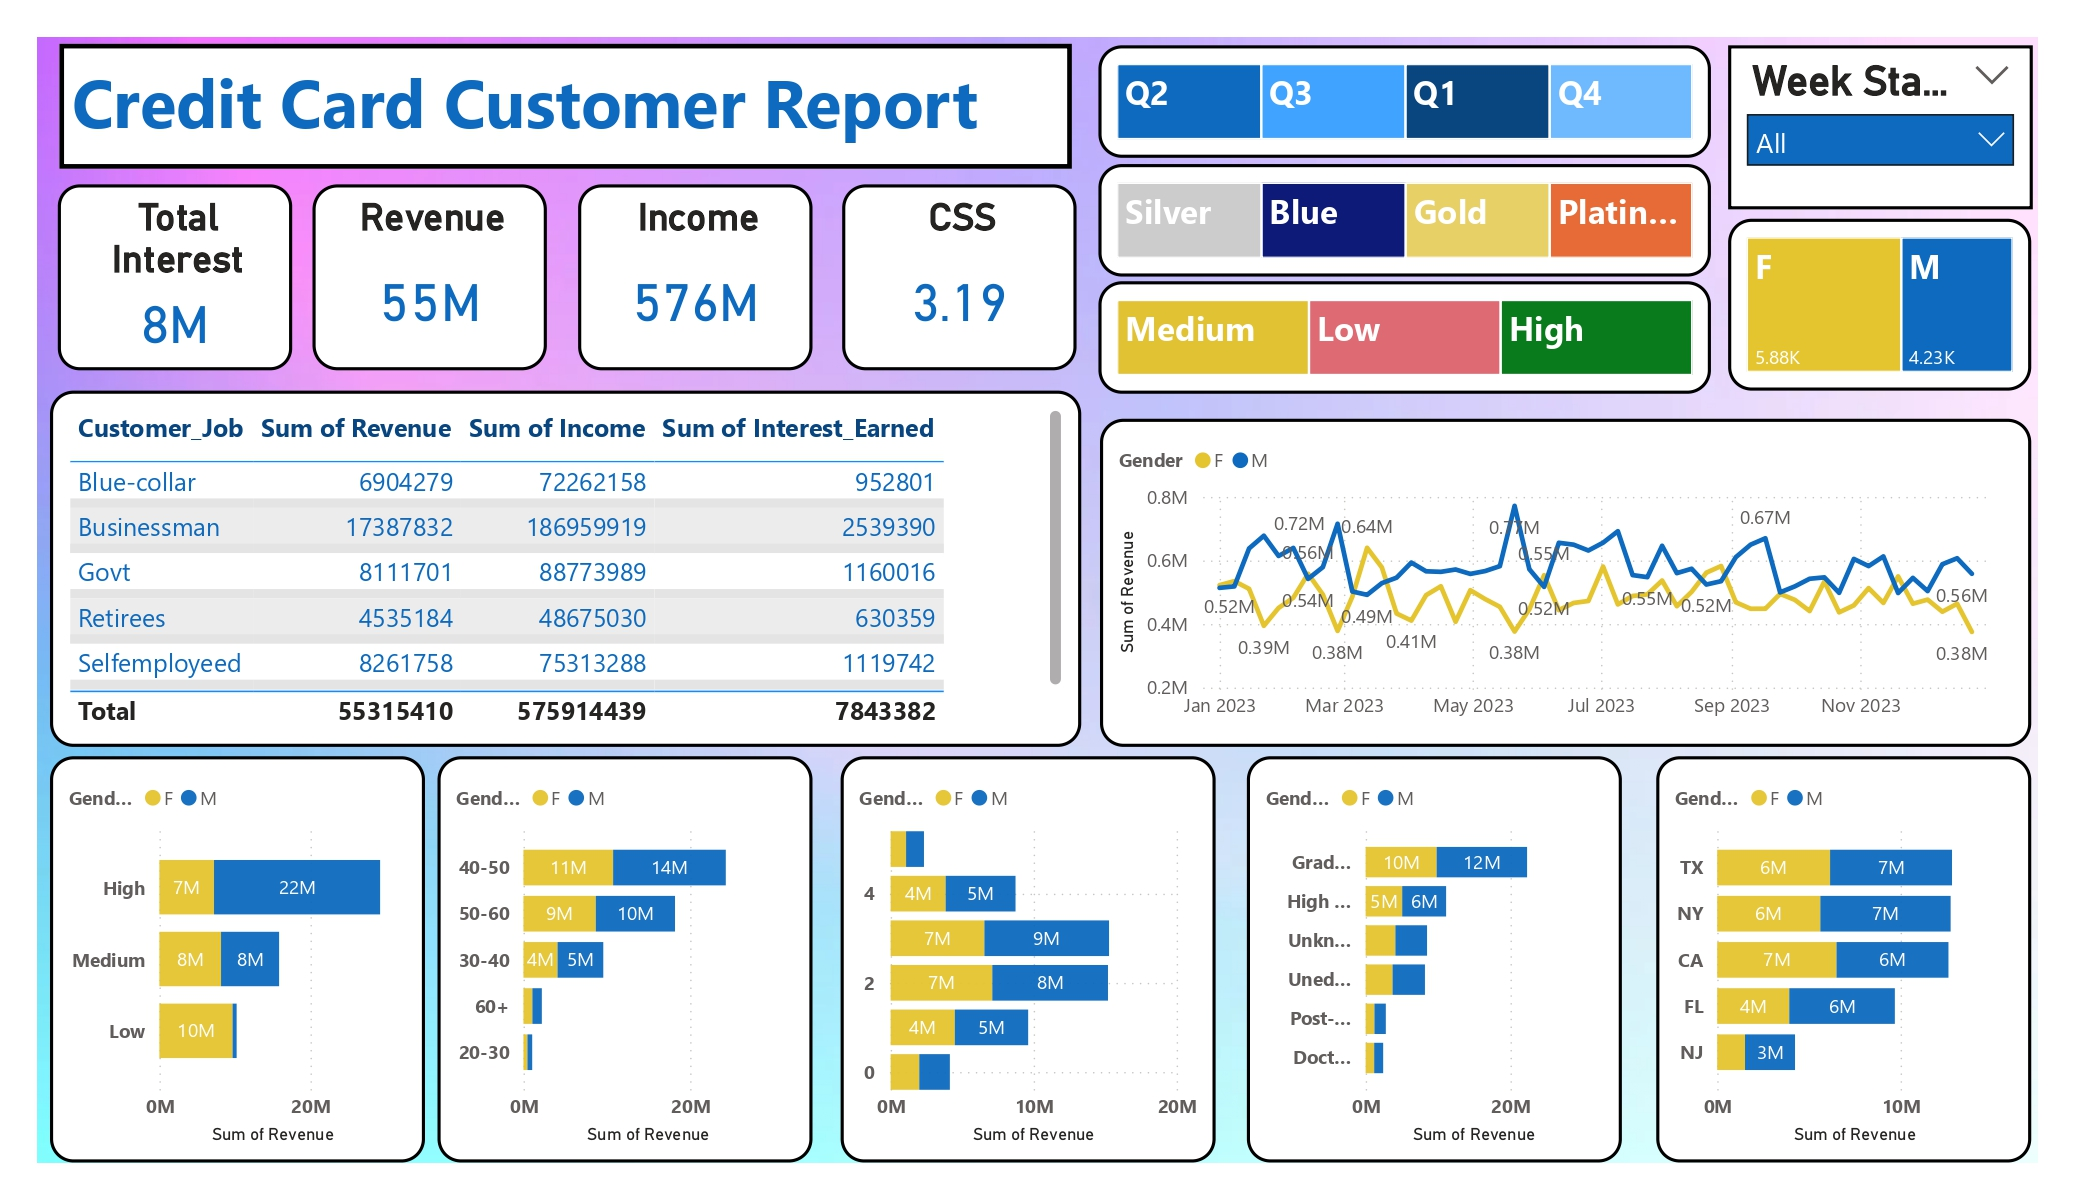

The dashboard page shown, as its layout file describes it:
{"tool":"powerbi","page":{"name":"Credit Card Customer","canvas":[1280,720],"ordinal":1},"visuals":[{"type":"barChart","title":"Revenue by Income","fields":{"Y":["Sum(credit_card.Revenue)"],"Category":["customer.IncomeGroup"],"Series":["customer.Gender"]},"box":[8,460,240,260],"z":0},{"type":"card","title":"Revenue","fields":{"Values":["Sum(credit_card.Revenue)"]},"box":[176,93.6,149.8,119.8],"z":1000},{"type":"card","title":"Income","fields":{"Values":["Sum(customer.Income)"]},"box":[346.4,93.6,149.8,119.8],"z":2000},{"type":"card","title":"Total Interest","fields":{"Values":["Sum(credit_card.Interest_Earned)"]},"box":[13.1,93.6,149.8,119.8],"z":3000},{"type":"card","title":"CSS","fields":{"Values":["Avg(customer.Cust_Satisfaction_Score)"]},"box":[514.9,93.6,149.8,119.8],"z":4000},{"type":"treemap","fields":{"Group":["credit_card.Qtr"],"Values":["CountNonNull(credit_card.Client_Num)"]},"box":[679,4.8,391.9,72.6],"z":5000},{"type":"treemap","fields":{"Values":["CountNonNull(credit_card.Client_Num)"],"Group":["customer.Gender"]},"box":[1082,116,194,110],"z":6000},{"type":"treemap","fields":{"Values":["Avg(credit_card.Client_Num)"],"Group":["credit_card.Card_Category"]},"box":[679,80.6,391.9,72.6],"z":7000},{"type":"treemap","fields":{"Values":["Avg(credit_card.Client_Num)"],"Group":["customer.IncomeGroup"]},"box":[679,156.5,391.9,72],"z":8000},{"type":"slicer","fields":{"Values":["credit_card.Week_Start_Date"]},"box":[1082.3,4.8,195.2,104.8],"z":9000},{"type":"tableEx","fields":{"Values":["customer.Customer_Job","Sum(credit_card.Revenue)","Sum(customer.Income)","Sum(credit_card.Interest_Earned)"]},"box":[8,226,660,228],"z":10000},{"type":"textbox","box":[14,4,648,80],"z":11000},{"type":"lineChart","title":"Revenue by Week","fields":{"Y":["Sum(credit_card.Revenue)"],"Series":["customer.Gender"],"Category":["credit_card.Week_Start_Date.Variation.Date Hierarchy.Year","credit_card.Week_Start_Date.Variation.Date Hierarchy.Month","credit_card.Week_Start_Date.Variation.Date Hierarchy.Day"]},"box":[680,244,596,210],"z":12000},{"type":"barChart","title":"Revenue by Age Group","fields":{"Y":["Sum(credit_card.Revenue)"],"Category":["customer.AgeGroup"],"Series":["customer.Gender"]},"box":[256,460,240,260],"z":13000},{"type":"barChart","title":"Revenue by Dependent Count","fields":{"Y":["Sum(credit_card.Revenue)"],"Category":["customer.Dependent_Count"],"Series":["customer.Gender"]},"box":[514,460,240,260],"z":14000},{"type":"barChart","title":"Revenue by Education Level","fields":{"Y":["Sum(credit_card.Revenue)"],"Category":["customer.Education_Level"],"Series":["customer.Gender"]},"box":[774,460,240,260],"z":15000},{"type":"barChart","title":"Top 5 States","fields":{"Y":["Sum(credit_card.Revenue)"],"Category":["customer.state_cd"],"Series":["customer.Gender"]},"box":[1036,460,240,260],"z":16000}]}

Visuals, with their boxes in screenshot pixels (x1, y1, x2, y2):
"Revenue by Income" barChart: 50, 756, 425, 1162
"Revenue" card: 312, 184, 547, 371
"Income" card: 579, 184, 813, 371
"Total Interest" card: 58, 184, 292, 371
"CSS" card: 842, 184, 1076, 371
treemap - credit_card.Qtr x CountNonNull(credit_card.Client_Num): 1098, 45, 1711, 158
treemap - CountNonNull(credit_card.Client_Num) x customer.Gender: 1728, 219, 2031, 391
treemap - Avg(credit_card.Client_Num) x credit_card.Card_Category: 1098, 163, 1711, 277
treemap - Avg(credit_card.Client_Num) x customer.IncomeGroup: 1098, 282, 1711, 395
slicer - credit_card.Week_Start_Date: 1729, 45, 2034, 209
tableEx - customer.Customer_Job x Sum(credit_card.Revenue): 50, 391, 1081, 747
textbox: 59, 44, 1072, 169
"Revenue by Week" lineChart: 1100, 419, 2031, 747
"Revenue by Age Group" barChart: 438, 756, 812, 1162
"Revenue by Dependent Count" barChart: 841, 756, 1216, 1162
"Revenue by Education Level" barChart: 1247, 756, 1622, 1162
"Top 5 States" barChart: 1656, 756, 2031, 1162
